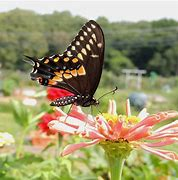insect: (24, 20, 115, 107)
